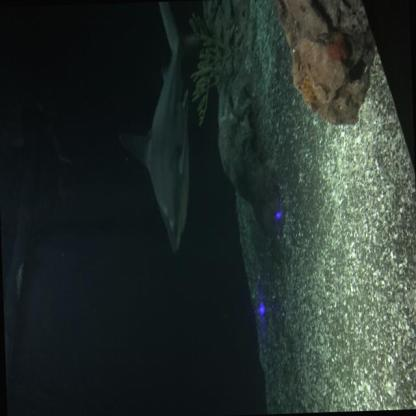shark: (112, 0, 209, 258)
